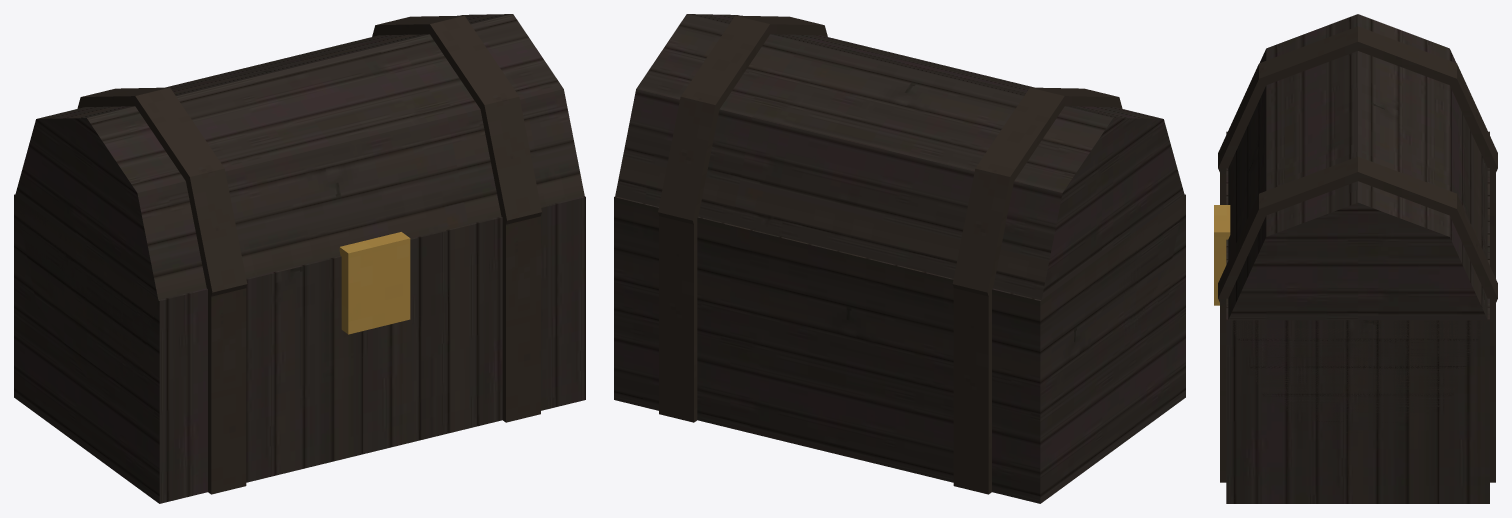
File: chest_01.glb
3 views of the same model, side by side, from view 1: azimuth 30°, elevation 25°; view 2: azimuth 150°, elevation 25°; view 3: azimuth 270°, elevation 25° (orthographic). The views are drawn at different scales.
Parts seen in each view (by area): view 1: chest_01; view 2: chest_01; view 3: chest_01.
Part boxes in pixels (<box>): chest_01: <box>14,14,585,503</box>; chest_01: <box>614,14,1185,503</box>; chest_01: <box>1214,14,1497,503</box>.
Bounding box in the file's own units: 1.1 × 0.845 × 0.6999.
3 materials, 3 textured.
